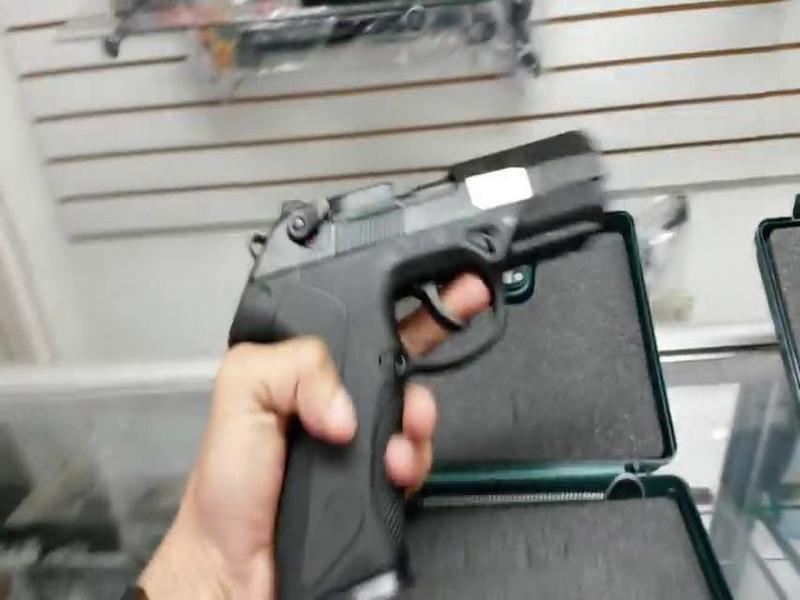Pistola: (222, 121, 616, 584)
